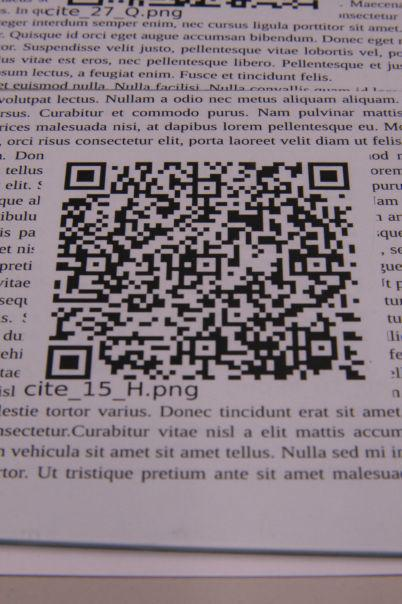Finder pattern: (42, 343, 98, 384), (60, 160, 110, 194), (305, 160, 355, 193)
